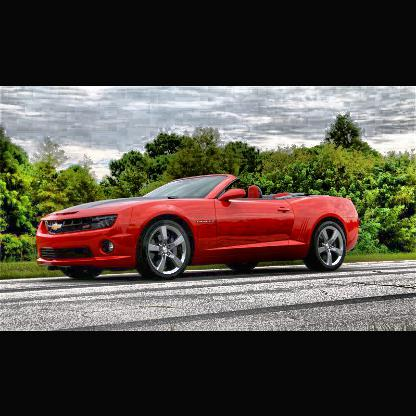Chevrolet Camaro Convertible 2012: (36, 173, 361, 283)
